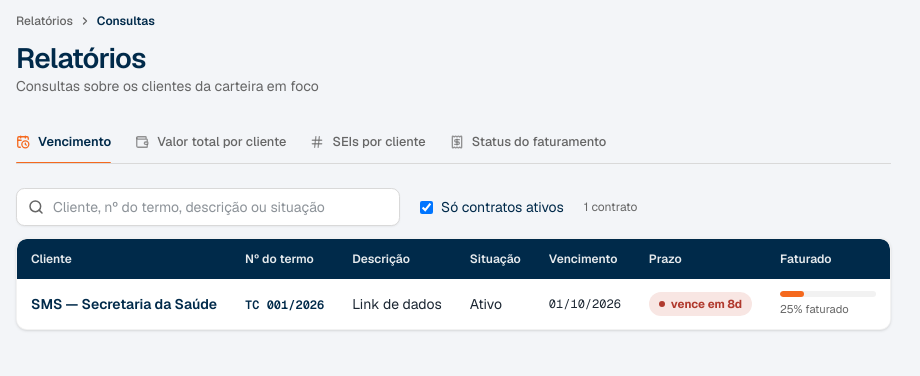
Test: RelatoriosPage › aba Valor total mostra saldo por cliente
Click the tab "Valor total por cliente" at (211, 142), box [135,120,286,163]
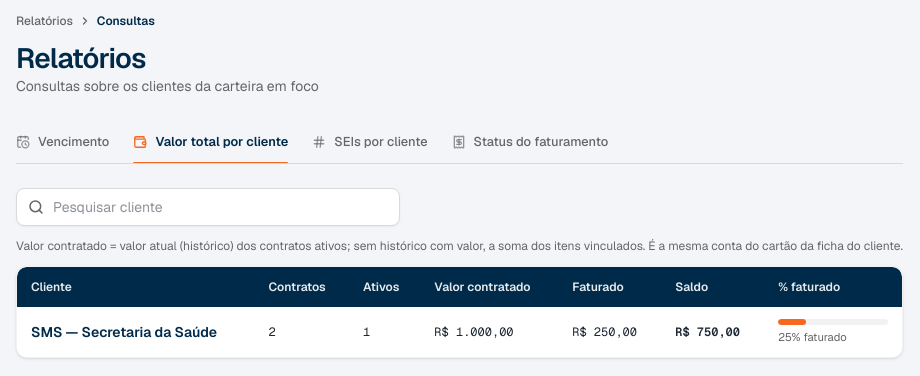
Now the text "R$ 750,00" is shown, box [661,307,764,357]
